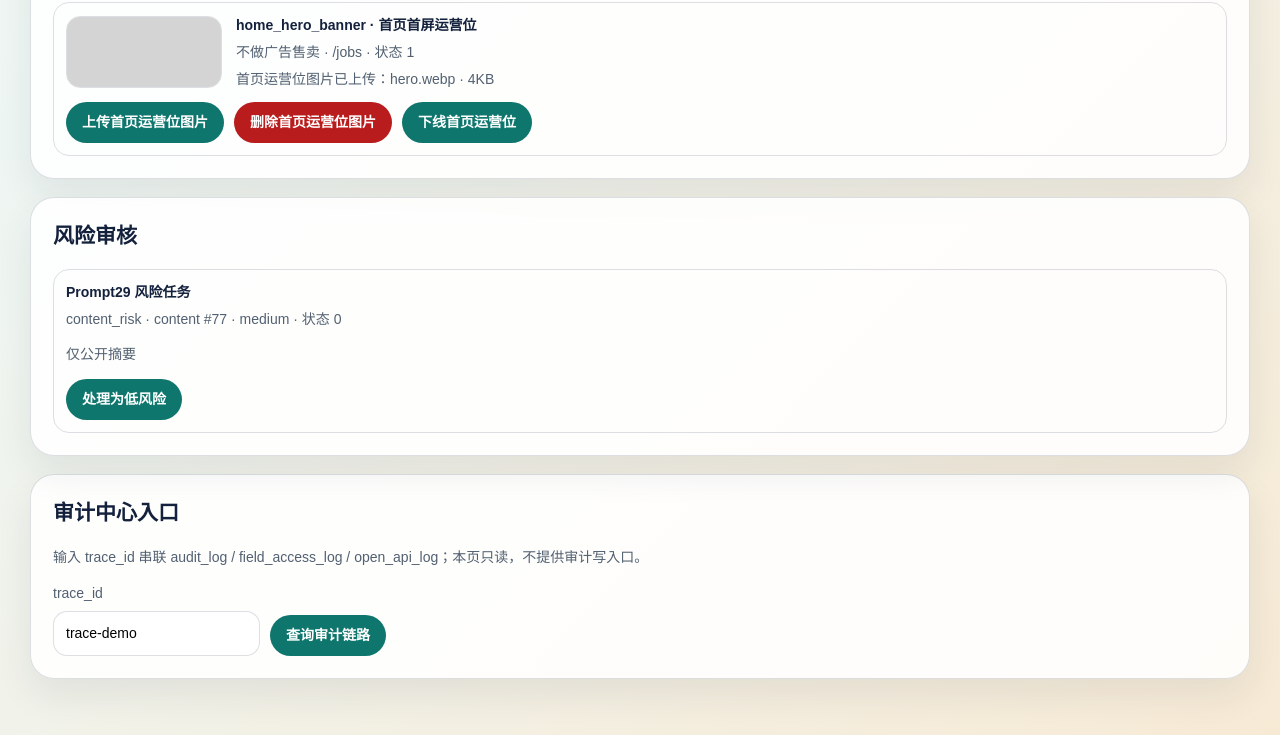
AdminDashboard › renders sanitized audit trace details without raw sensitive payloads
(page scrolled)
Click the button "查询审计链路" at {"x": 328, "y": 636}, box [270,615,386,656]
(page scrolled)
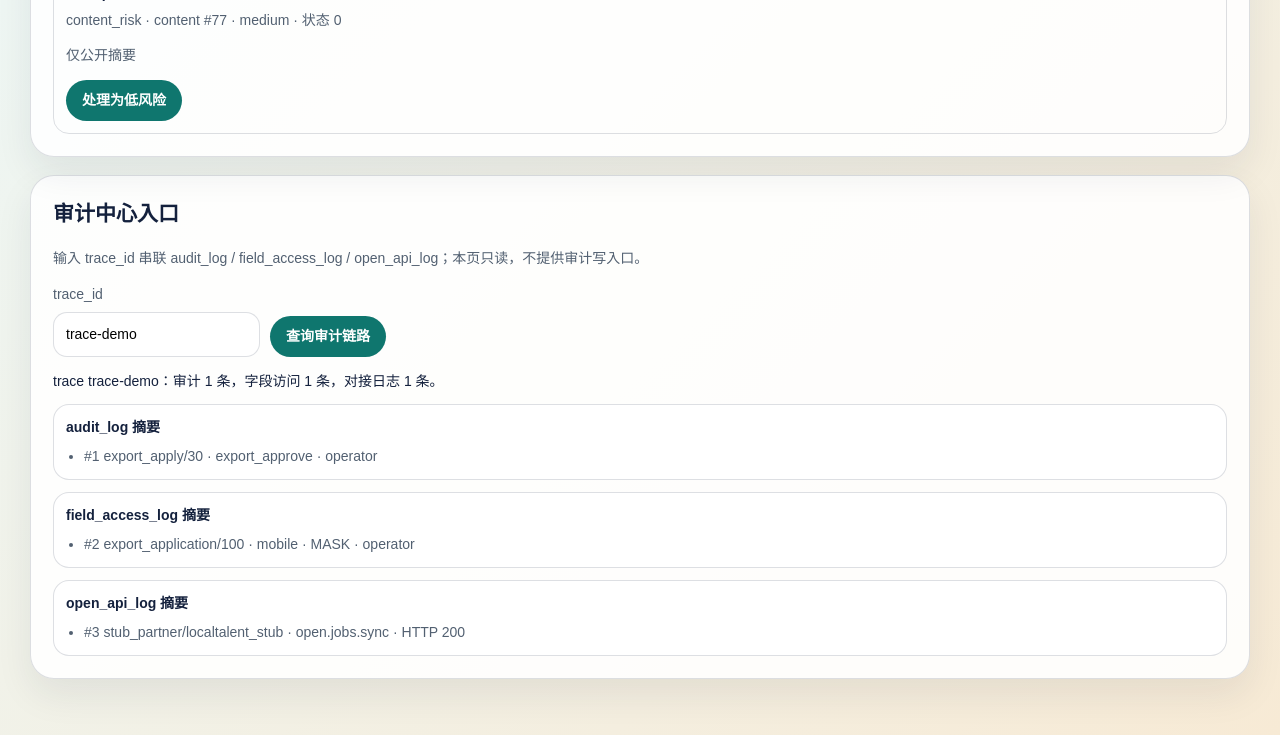
Check: the text "audit_log 摘要" is shown, box [66,419,160,435]
Check: the text "field_access_log 摘要" is shown, box [66,507,210,523]
Check: the text "open_api_log 摘要" is shown, box [66,595,188,611]
